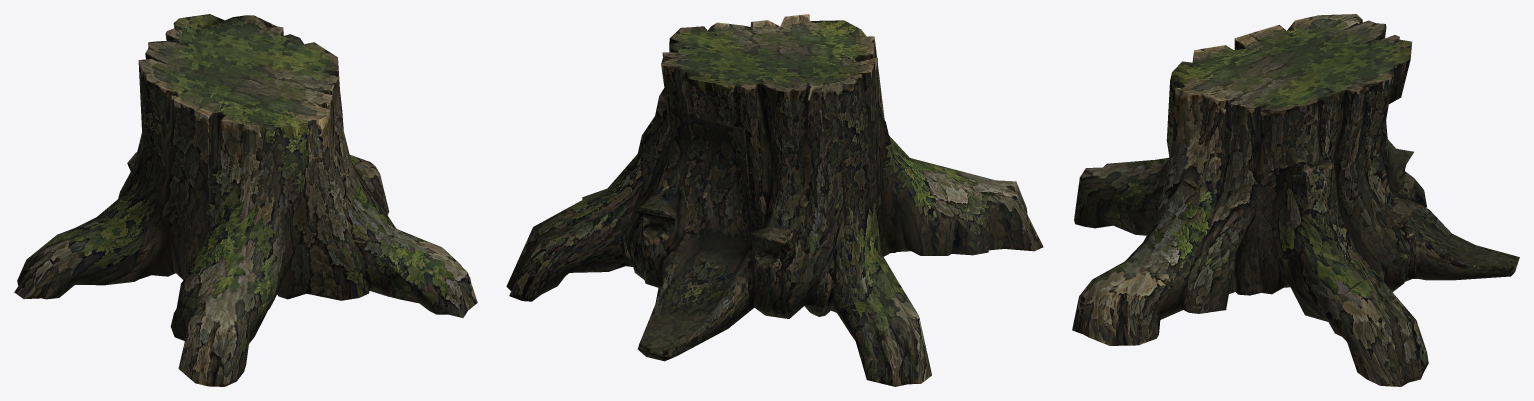
The model's file is clutter_mossy_stump.glb.
The picture shows the model from 3 angles, left to right: view 1: azimuth 30°, elevation 25°; view 2: azimuth 150°, elevation 25°; view 3: azimuth 270°, elevation 25°; orthographic projection. The views are drawn at different scales.
Visible parts, largest first — view 1: mossy_stump; view 2: mossy_stump; view 3: mossy_stump.
Part boxes in pixels (<box>): mossy_stump: <box>14,14,477,386</box>; mossy_stump: <box>506,14,1043,386</box>; mossy_stump: <box>1072,14,1519,386</box>.
Bounding box in the file's own units: 0.9932 × 0.5957 × 0.9907.
1 material, 1 textured.
